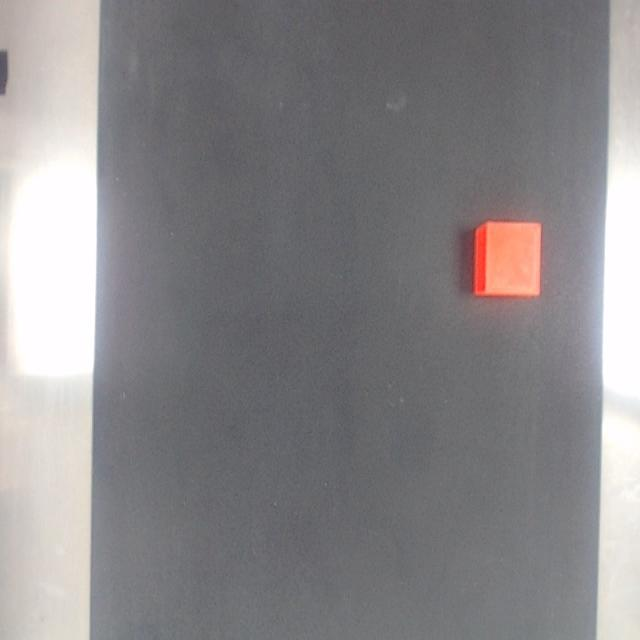Rojo: (473, 221, 541, 295)
